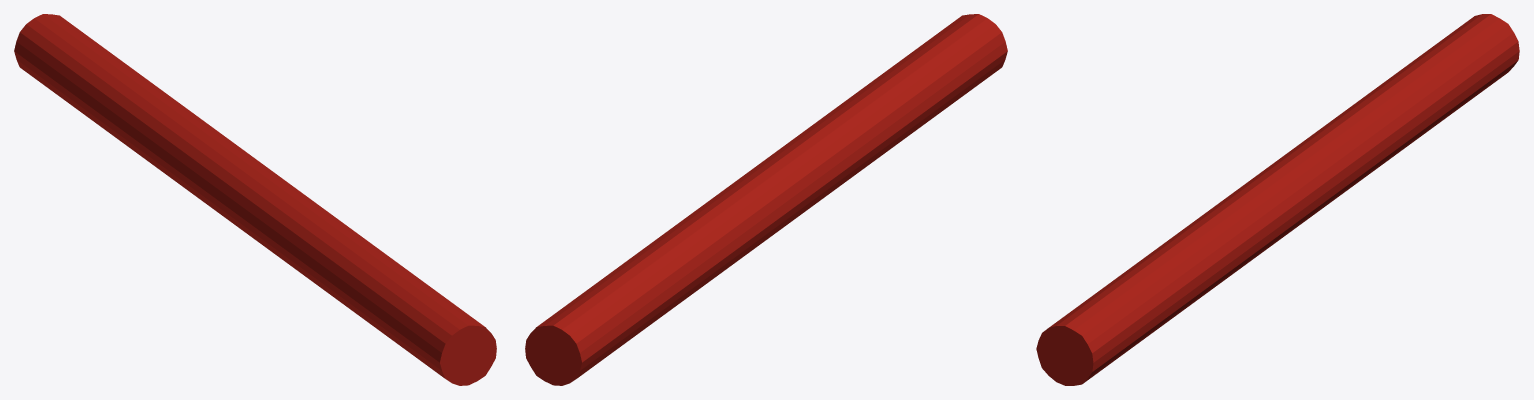
File: Roof_Ridge.obj
3 views of the same model, side by side, from view 1: azimuth 30°, elevation 25°; view 2: azimuth 150°, elevation 25°; view 3: azimuth 330°, elevation 25° (orthographic).
Visible parts, largest first — view 1: Roof_Ridge; view 2: Roof_Ridge; view 3: Roof_Ridge.
Boxes of the visible parts, bbox=[...] form: Roof_Ridge: bbox=[14, 14, 496, 385]; Roof_Ridge: bbox=[525, 14, 1007, 385]; Roof_Ridge: bbox=[1036, 14, 1519, 385].
Bounding box in the file's own units: 0.2824 × 0.2829 × 3.65.
